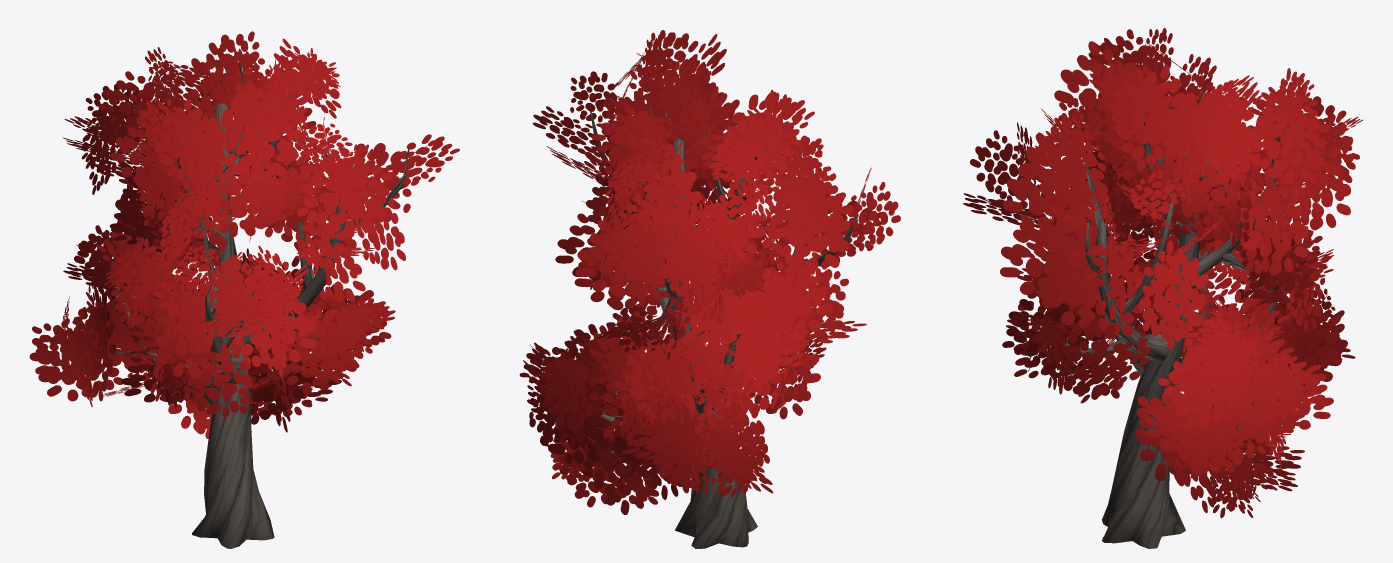
Rendered from twisted_tree_free_model_b_b_b_b_lo.glb.
3 views of the same model, side by side, from view 1: azimuth 30°, elevation 25°; view 2: azimuth 150°, elevation 25°; view 3: azimuth 270°, elevation 25° (orthographic). The views are drawn at different scales.
Visible parts, largest first — view 1: TwistedTree_3; view 2: TwistedTree_3; view 3: TwistedTree_3.
Part boxes in pixels (x1,y1,x2,y2): TwistedTree_3: [29, 31, 459, 548]; TwistedTree_3: [519, 30, 900, 548]; TwistedTree_3: [963, 28, 1363, 548].
Bounding box in the file's own units: 12.85 × 16.83 × 12.79.
Materials: 2 (2 with a texture image).
